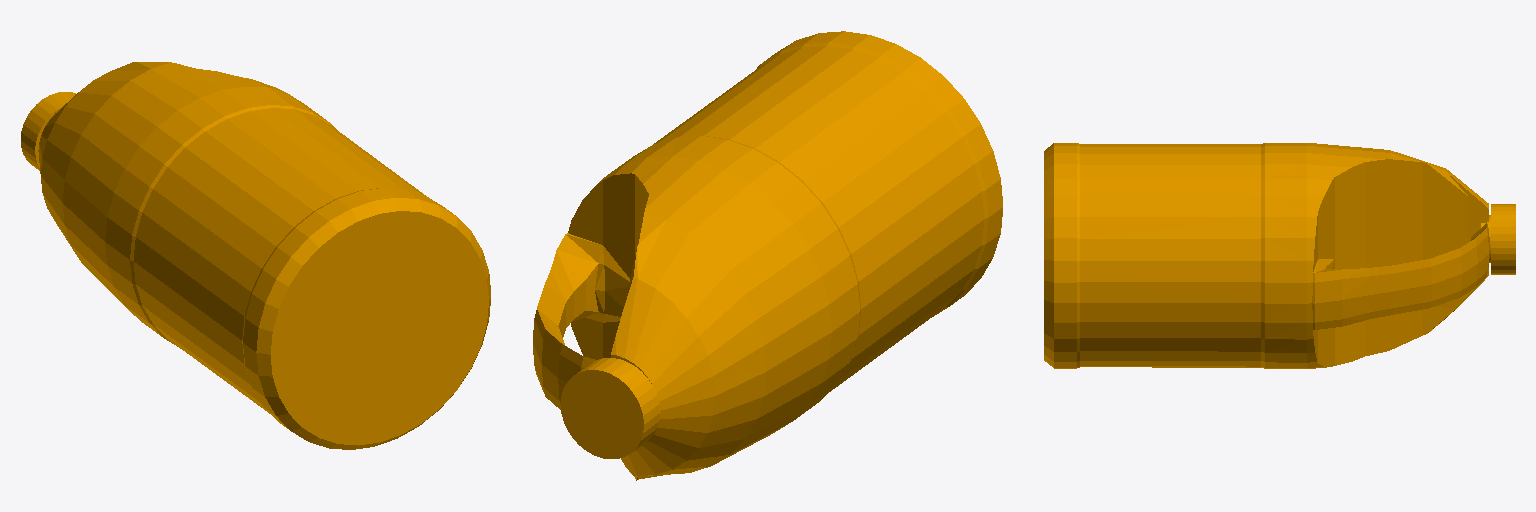
robot.urdf — clorox-bottle-consistent.off:
<?xml version="1.0"?>
<robot name="clorox-bottle-consistent.off">
	<link name="clorox-bottle-consistent.off">
		<inertial>
			<!--origin xyz="0 0 0" rpy="0 0 0" /-->
			<mass value="0.5" />
			<!--inertia ixx="0.000360" ixy="0" ixz="0" iyy="0.0000615" iyz="0" izz="0.00036" /-->
		</inertial>
    		<visual>
	      		<!--origin rpy="0 0 0" xyz="0 0 0"/-->
      			<geometry>
        			<mesh filename="clorox-bottle-consistent.off.obj"/>
      			</geometry>
         	</visual>
    		<collision>
      			<!--origin rpy="0 0 0" xyz="0 0 0"/-->
      			<geometry>
        			<mesh filename="clorox-bottle-consistent.off.obj"/>
      			</geometry>
    		</collision>
	</link>
</robot>

--- What the picture shows (computed from the rendered views, not written in the file) ---
The picture shows the robot from 3 angles, left to right: view 1: azimuth 30°, elevation 25°; view 2: azimuth 150°, elevation 25°; view 3: azimuth 270°, elevation 25°; orthographic projection.
Model clorox-bottle-consistent.off with 1 links and 0 joints (none), rooted at clorox-bottle-consistent.off, posed all joints at 0.
Links seen in each view (by area): view 1: clorox-bottle-consistent.off; view 2: clorox-bottle-consistent.off; view 3: clorox-bottle-consistent.off.
Link boxes in pixels (x1,y1,x2,y2): clorox-bottle-consistent.off: (21, 62, 490, 449); clorox-bottle-consistent.off: (533, 31, 1002, 480); clorox-bottle-consistent.off: (1044, 143, 1515, 368).
Size in the robot's own frame: 1.8 by 3.74 by 1.8 metres.
Meshes: 1 distinct files referenced, 1 mesh visuals loaded (1 OBJ).